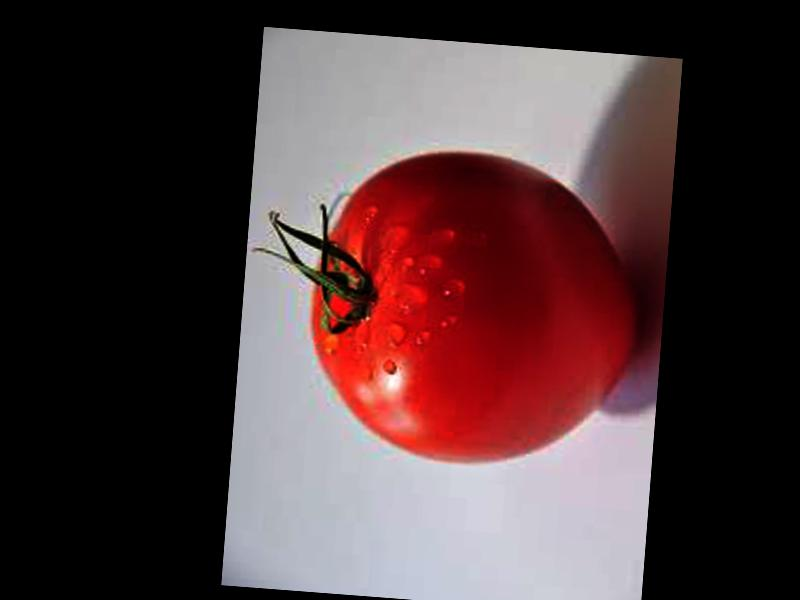Tomato: (305, 144, 649, 476)
